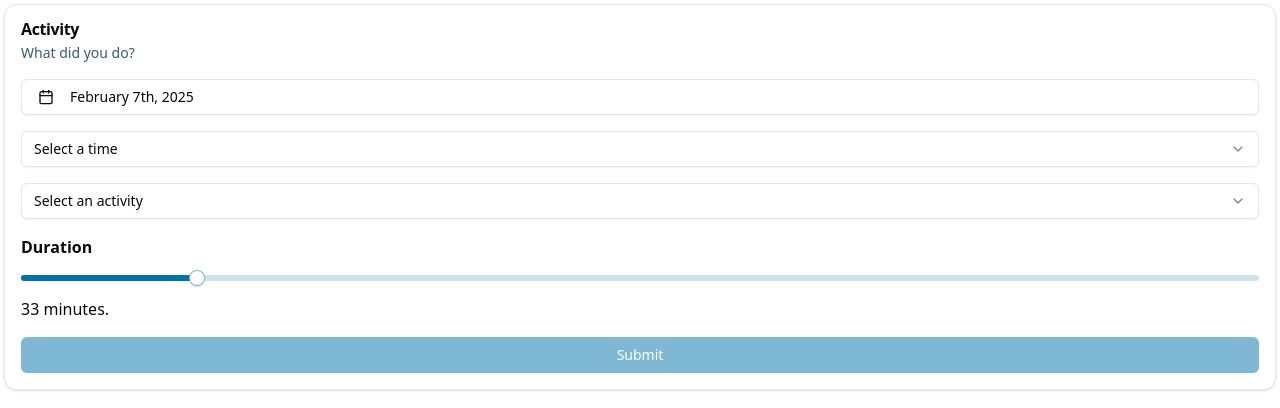
Test: ActivityInput › updates activity duration when slider is changed
The image size is (1280, 408).
expect the text "33 minutes." is shown: met, box [21, 298, 109, 320]
// Trigger slider change via keyboard
Click the slider.
click(197, 278)  # box [189, 270, 205, 286]
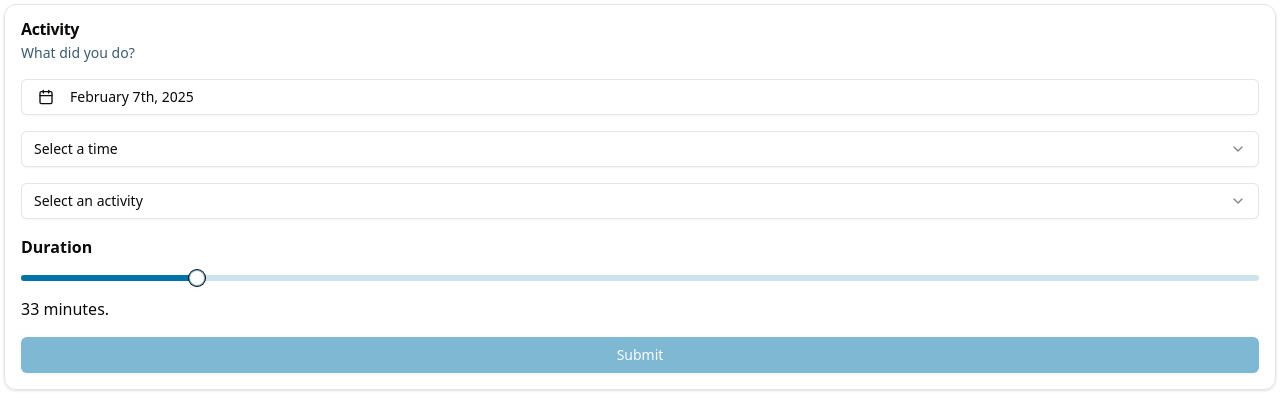
Press Arrowright Arrowright Arrowright {Arr
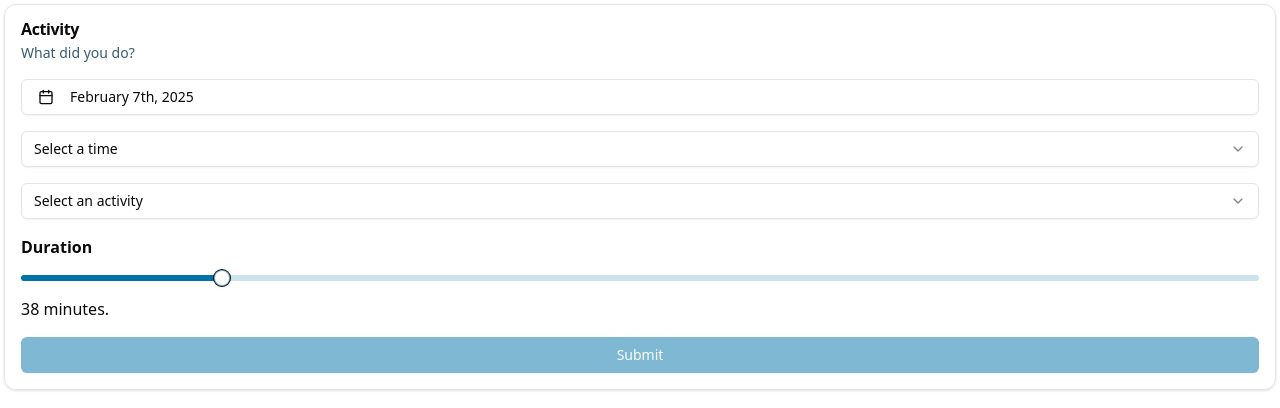
expect the text "38 minutes." is shown: met, box [21, 298, 109, 320]
